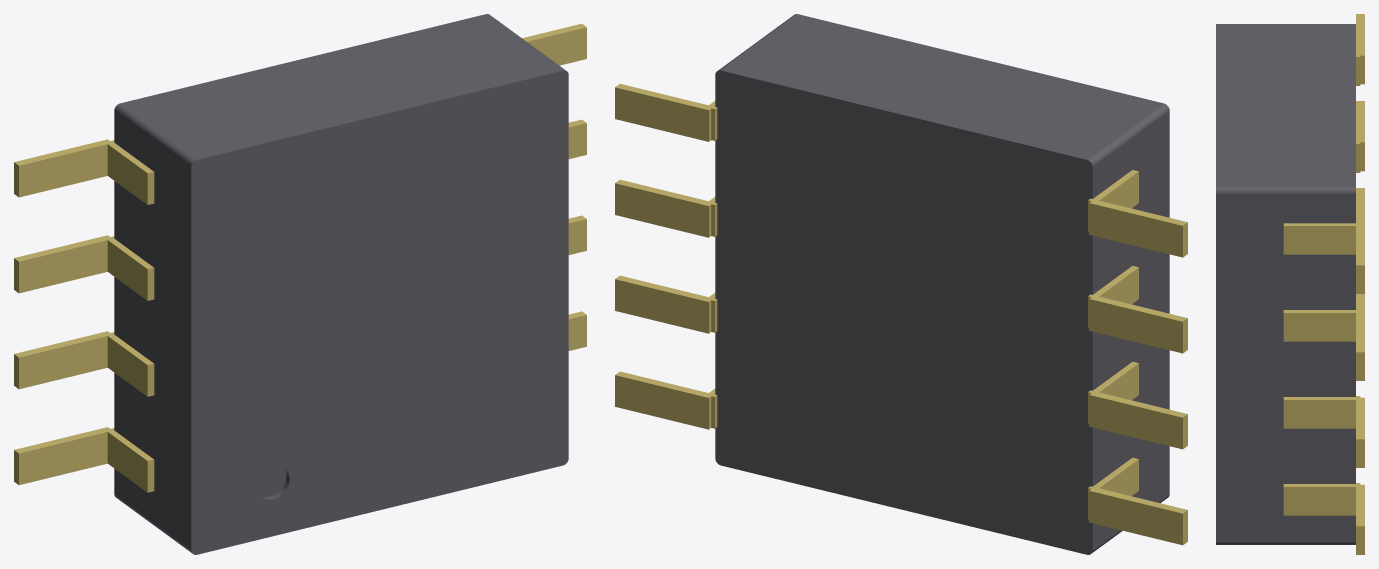
3 views of the same model, side by side, from view 1: azimuth 30°, elevation 25°; view 2: azimuth 150°, elevation 25°; view 3: azimuth 270°, elevation 25° (orthographic). The views are drawn at different scales.
Parts seen in each view (by area): view 1: extra, pins; view 2: extra, pins; view 3: extra, pins.
Part boxes in pixels (<box>): extra: <box>114,14,568,554</box>; pins: <box>14,23,586,492</box>; extra: <box>715,14,1169,554</box>; pins: <box>615,83,1187,545</box>; extra: <box>1216,24,1355,544</box>; pins: <box>1283,14,1364,554</box>.
Bounding box in the file's own units: 7.87 × 5.23 × 1.97.
